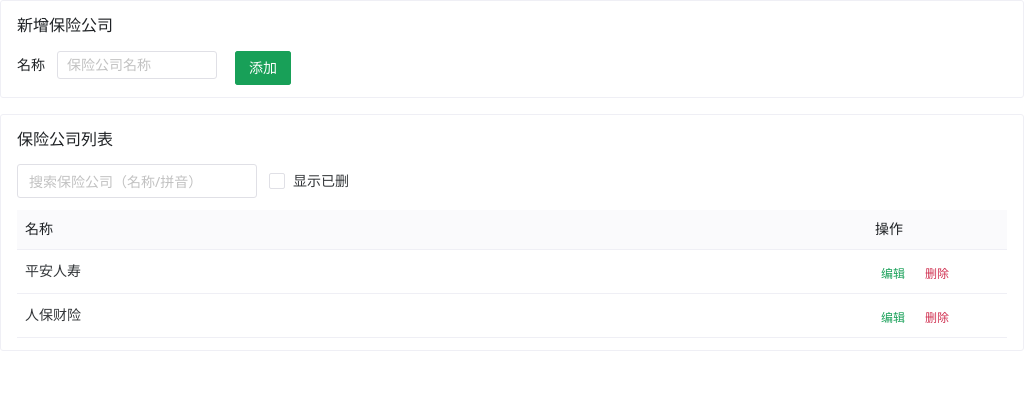
InsurerManager.vue 显示已删切换（issue #714） › 切换「显示已删」后已删保司以行展示，条数照常计入列表
Click the checkbox with class "n-checkbox" at (313, 181), box [269,170,357,192]
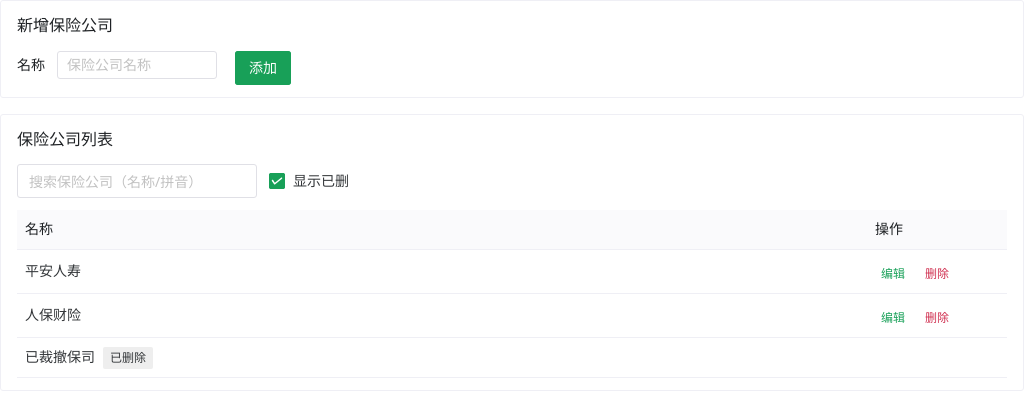
Expected: the text "已裁撤保司" is shown, [25,347,95,366]
